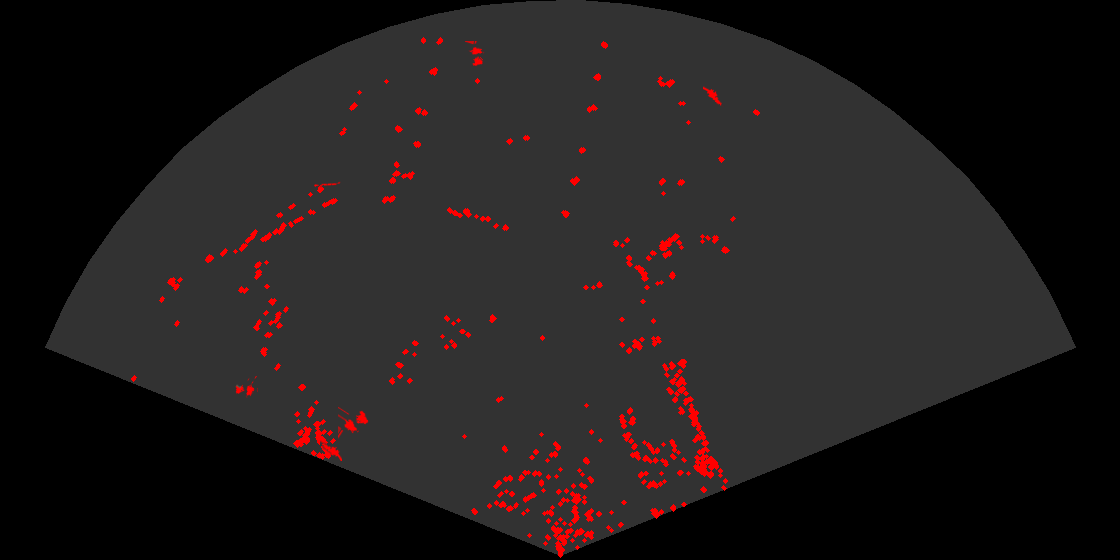cage: (338, 405, 370, 440), (465, 41, 486, 68), (234, 376, 258, 399)
chain: (314, 181, 341, 189)
frogman: (320, 440, 342, 461), (703, 86, 725, 107)
